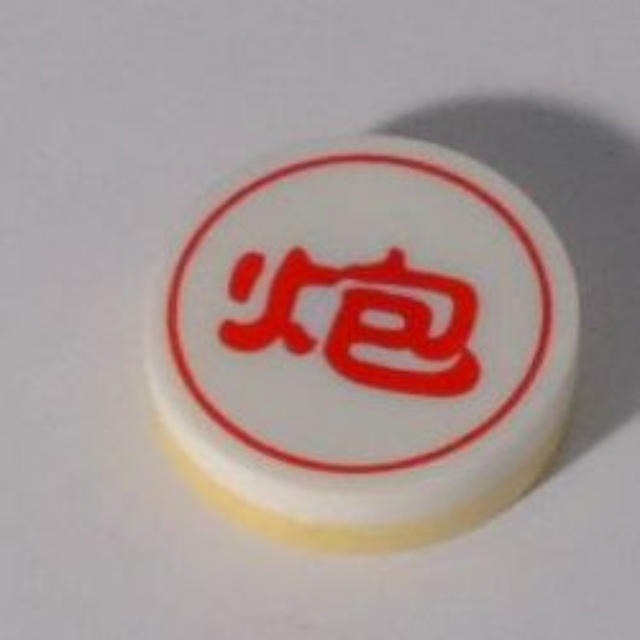red_phao: (142, 121, 585, 544)
